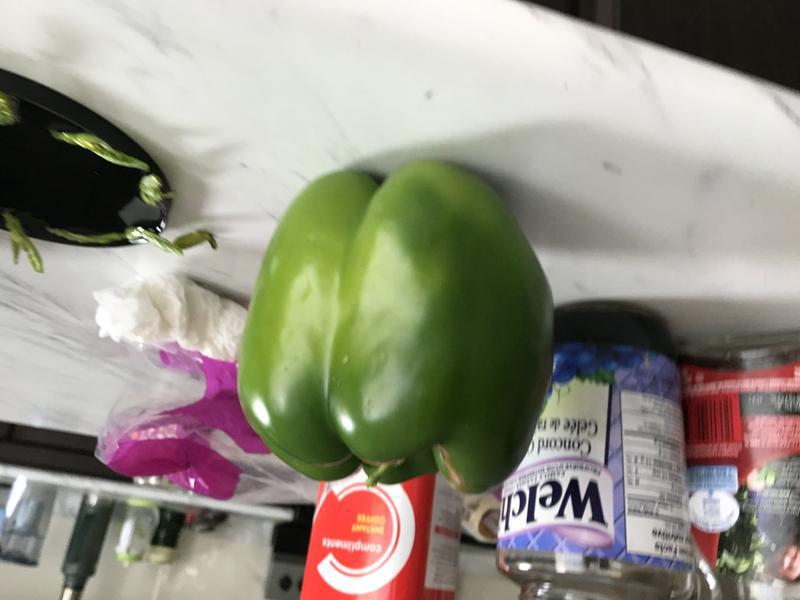green_pepper: (223, 152, 566, 515)
